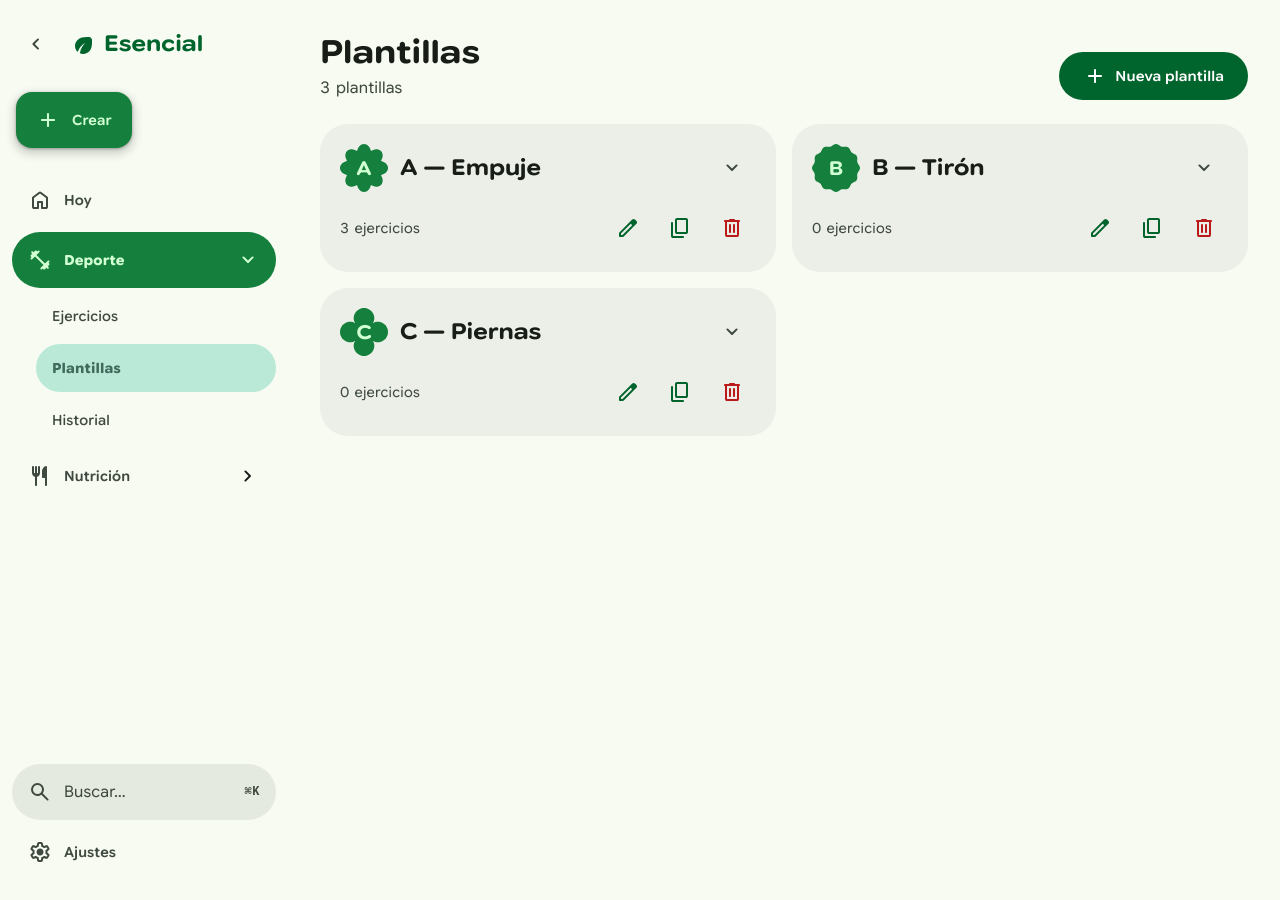
Test: página de plantillas › expand/collapse needs zero extra network; rows show series or cardio marcas
Expected: the text "B — Tirón" is shown, [872,154,984,181]
Expected: the text "3 series" is not shown
Click the button "A — Empuje": (470, 168) [400,154,696,182]
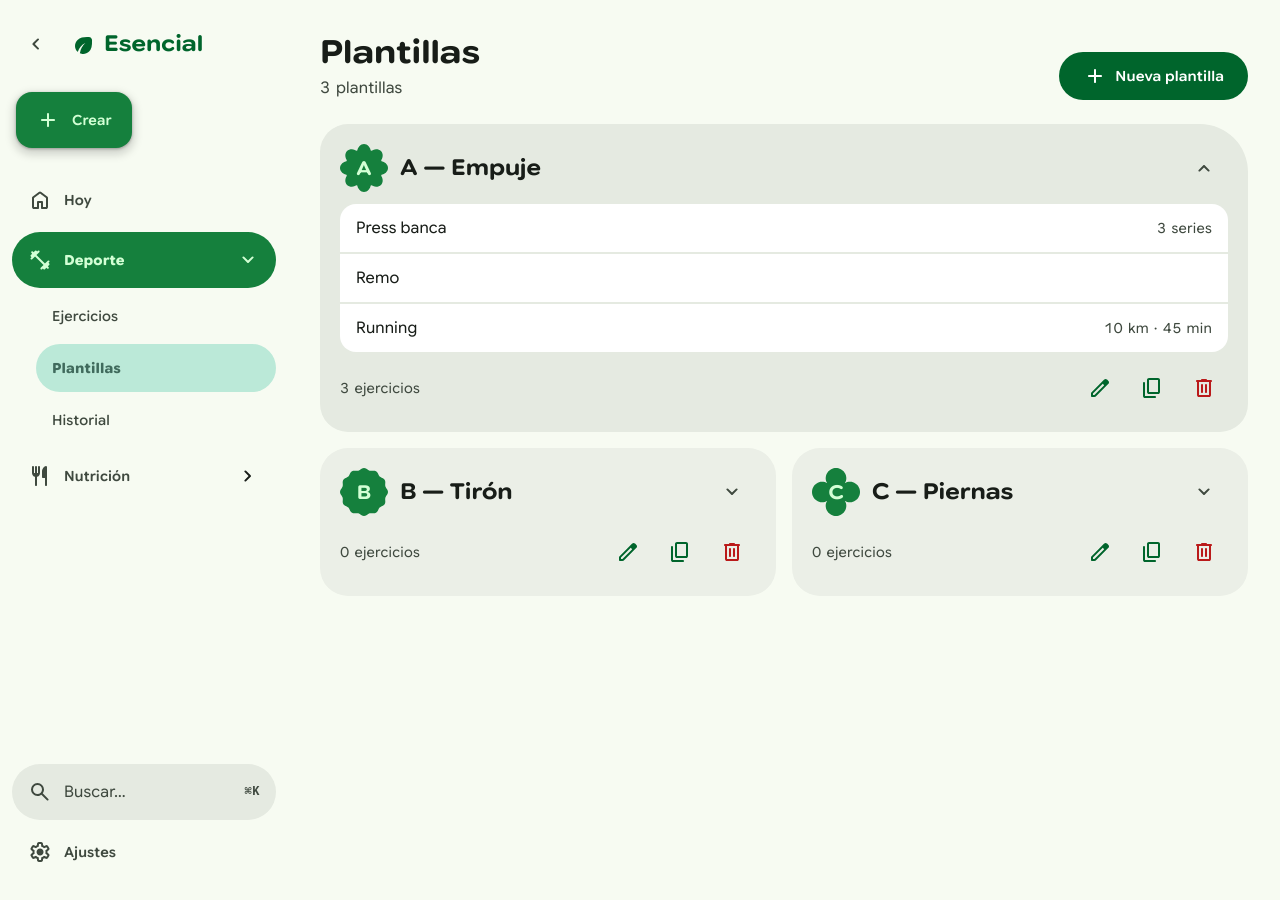
Now the text "3 series" is shown, box [1157,218,1212,238]
Now the text "10 km · 45 min" is shown, box [1104,318,1212,338]
Now the button "Remo" is shown, box [340,254,1228,302]
Click the button "A — Empuje": (470, 168) [400,154,1168,182]
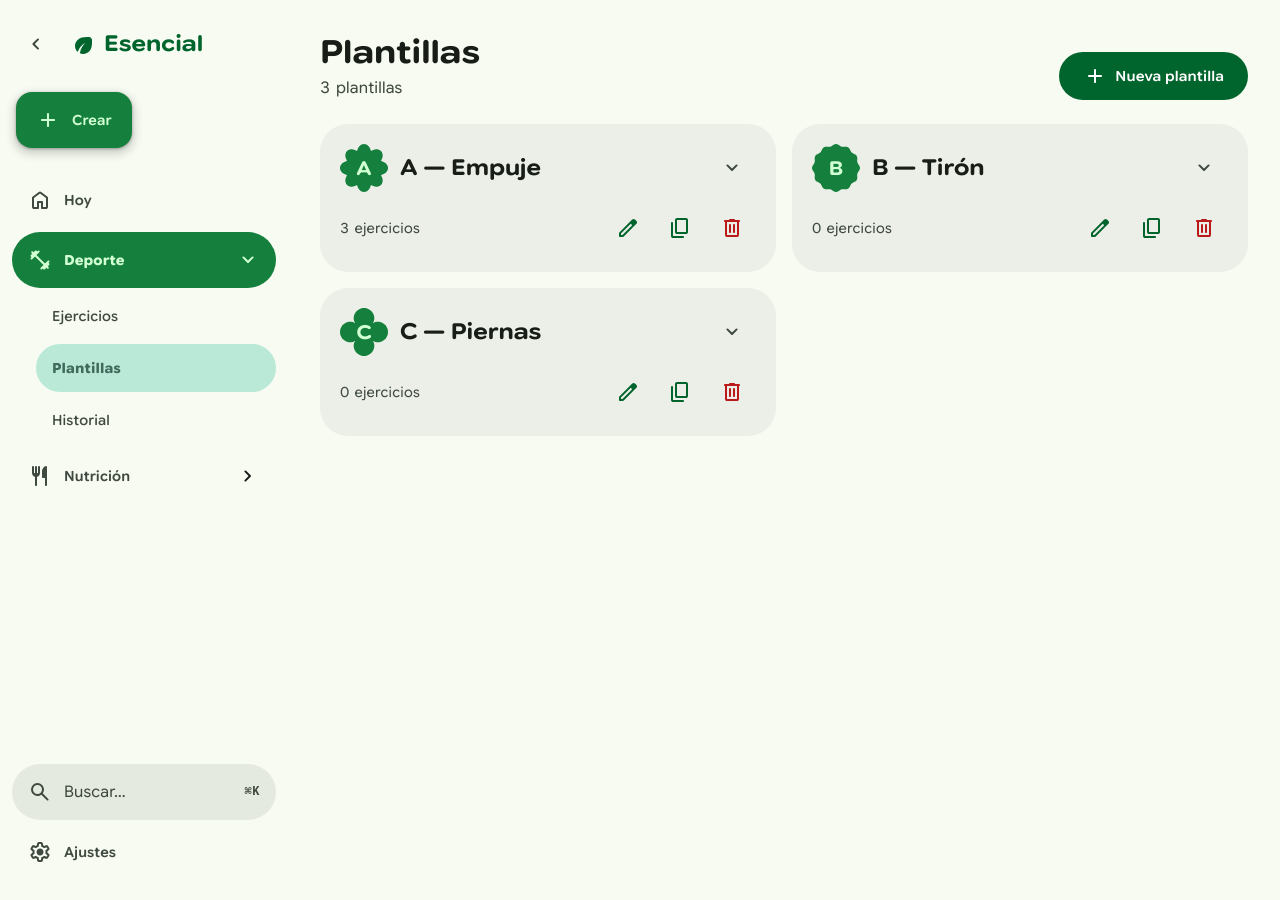
Now the button "3 series" is gone
